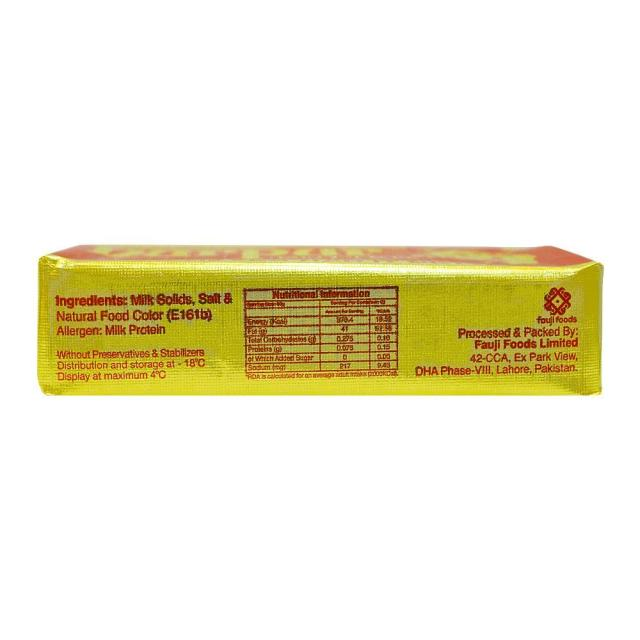butter: (36, 243, 604, 396)
